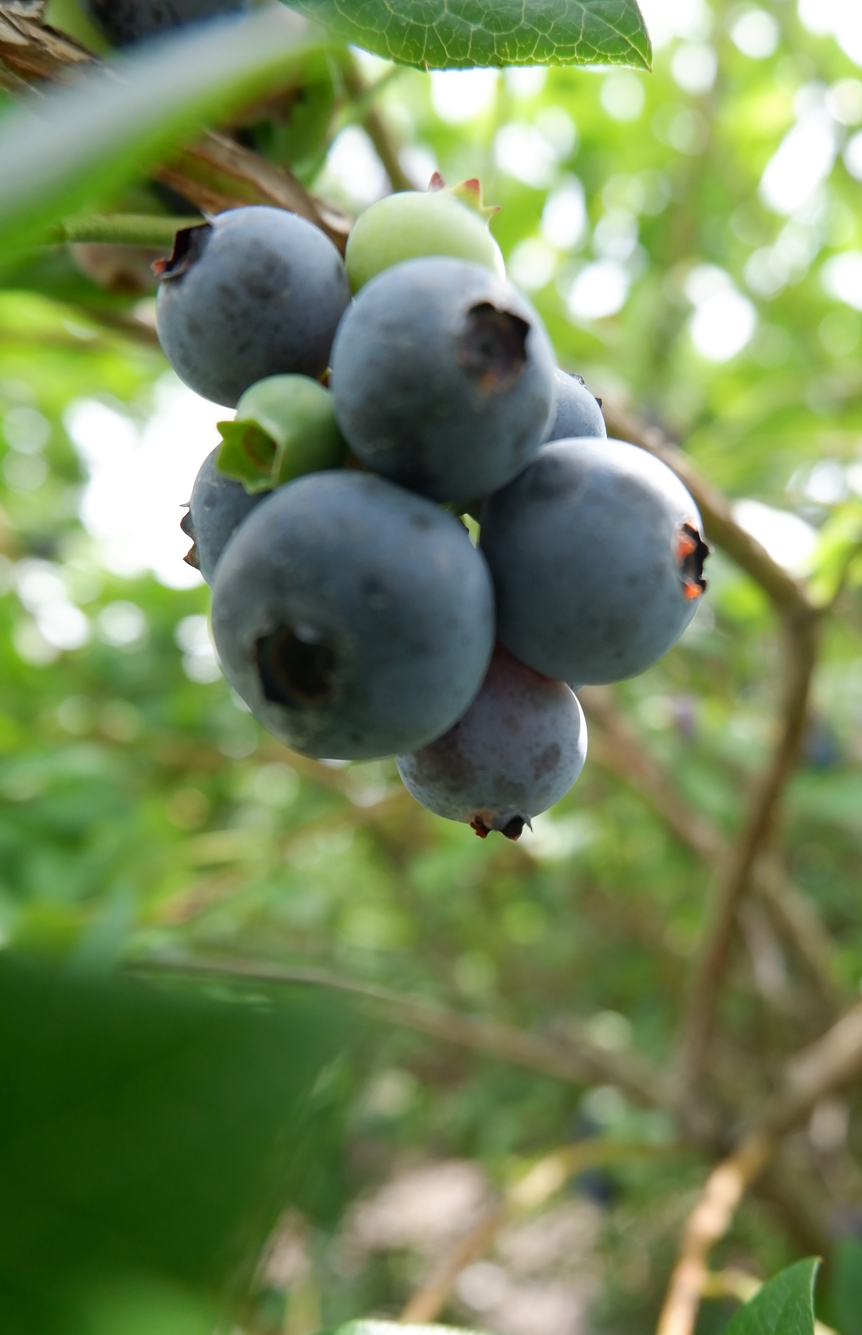Immature: (348, 175, 502, 288), (223, 376, 346, 485)
Mature: (216, 475, 490, 758), (483, 439, 704, 679), (334, 262, 554, 496), (155, 209, 344, 399), (400, 649, 584, 832), (187, 446, 269, 577), (542, 371, 605, 446)
